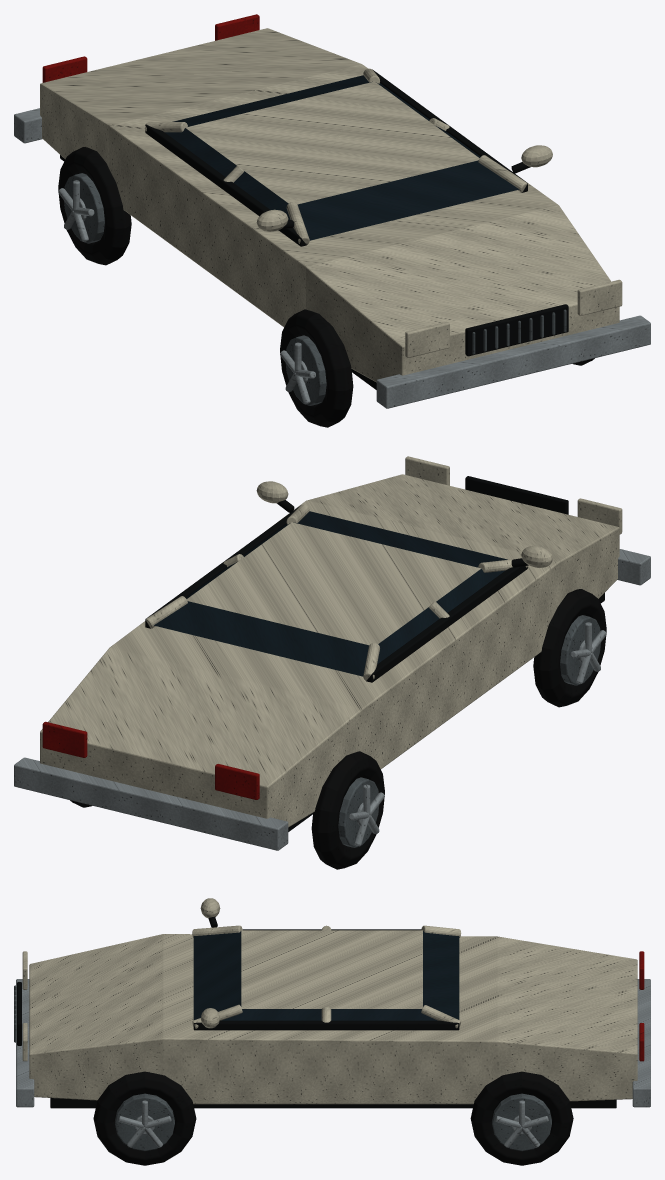
File: PROP-CAF780D9A6D0_lod0.glb
The picture shows the model from 3 angles, top to bottom: view 1: azimuth 30°, elevation 25°; view 2: azimuth 150°, elevation 25°; view 3: azimuth 270°, elevation 25°; orthographic projection. The views are drawn at different scales.
Visible parts, largest first — view 1: shaped_body_panels.020, roof_panel.018, sloped_cabin_glazing.020, bumper.020, tire.020, rim.020, window_belt.020, radiator_grille.020, lamp_lenses.040, window_pillars.020, rim_spokes.020, lamp_lenses.041 (+2 smaller); view 2: shaped_body_panels.020, roof_panel.018, sloped_cabin_glazing.020, bumper.020, tire.020, window_belt.020, rim.020, lamp_lenses.041, window_pillars.020, lamp_lenses.040, rim_spokes.020, radiator_grille.020 (+1 smaller); view 3: shaped_body_panels.020, roof_panel.018, tire.020, sloped_cabin_glazing.020, rim.020, bumper.020, window_belt.020, chassis.020, rim_spokes.020, window_pillars.020, mirror.020, lamp_lenses.040 (+1 smaller).
Part boxes in pixels (left/top/right/bottom): shaped_body_panels.020: left=40, top=28, right=619, bottom=382; roof_panel.018: left=185, top=81, right=479, bottom=204; sloped_cabin_glazing.020: left=165, top=75, right=519, bottom=240; bumper.020: left=14, top=108, right=650, bottom=408; tire.020: left=58, top=147, right=594, bottom=427; rim.020: left=64, top=173, right=326, bottom=405; window_belt.020: left=145, top=69, right=527, bottom=246; radiator_grille.020: left=465, top=304, right=568, bottom=356; lamp_lenses.040: left=405, top=279, right=622, bottom=357; window_pillars.020: left=145, top=68, right=528, bottom=244; rim_spokes.020: left=58, top=180, right=315, bottom=404; lamp_lenses.041: left=42, top=14, right=259, bottom=82; shaped_body_panels.020: left=40, top=474, right=619, bottom=827; roof_panel.018: left=186, top=522, right=481, bottom=645; sloped_cabin_glazing.020: left=154, top=511, right=507, bottom=676; bumper.020: left=14, top=549, right=650, bottom=850; tire.020: left=70, top=589, right=606, bottom=869; window_belt.020: left=145, top=505, right=527, bottom=682; rim.020: left=338, top=615, right=600, bottom=847; lamp_lenses.041: left=42, top=721, right=259, bottom=799; window_pillars.020: left=145, top=504, right=527, bottom=680; lamp_lenses.040: left=405, top=456, right=622, bottom=534; rim_spokes.020: left=349, top=622, right=606, bottom=846; radiator_grille.020: left=465, top=476, right=568, bottom=514; shaped_body_panels.020: left=29, top=934, right=637, bottom=1104; roof_panel.018: left=241, top=930, right=422, bottom=1008; tire.020: left=93, top=1071, right=573, bottom=1165; sloped_cabin_glazing.020: left=193, top=931, right=459, bottom=1020; rim.020: left=115, top=1093, right=551, bottom=1151; bumper.020: left=16, top=979, right=650, bottom=1107; window_belt.020: left=193, top=929, right=459, bottom=1030; chassis.020: left=50, top=1098, right=616, bottom=1108; rim_spokes.020: left=118, top=1100, right=548, bottom=1147; window_pillars.020: left=192, top=925, right=461, bottom=1028; mirror.020: left=200, top=898, right=220, bottom=1028; lamp_lenses.040: left=22, top=951, right=27, bottom=1061.
Size of the model in its own units: 2.09 by 1.24 by 4.56.
Materials: 7 (7 with a texture image).
